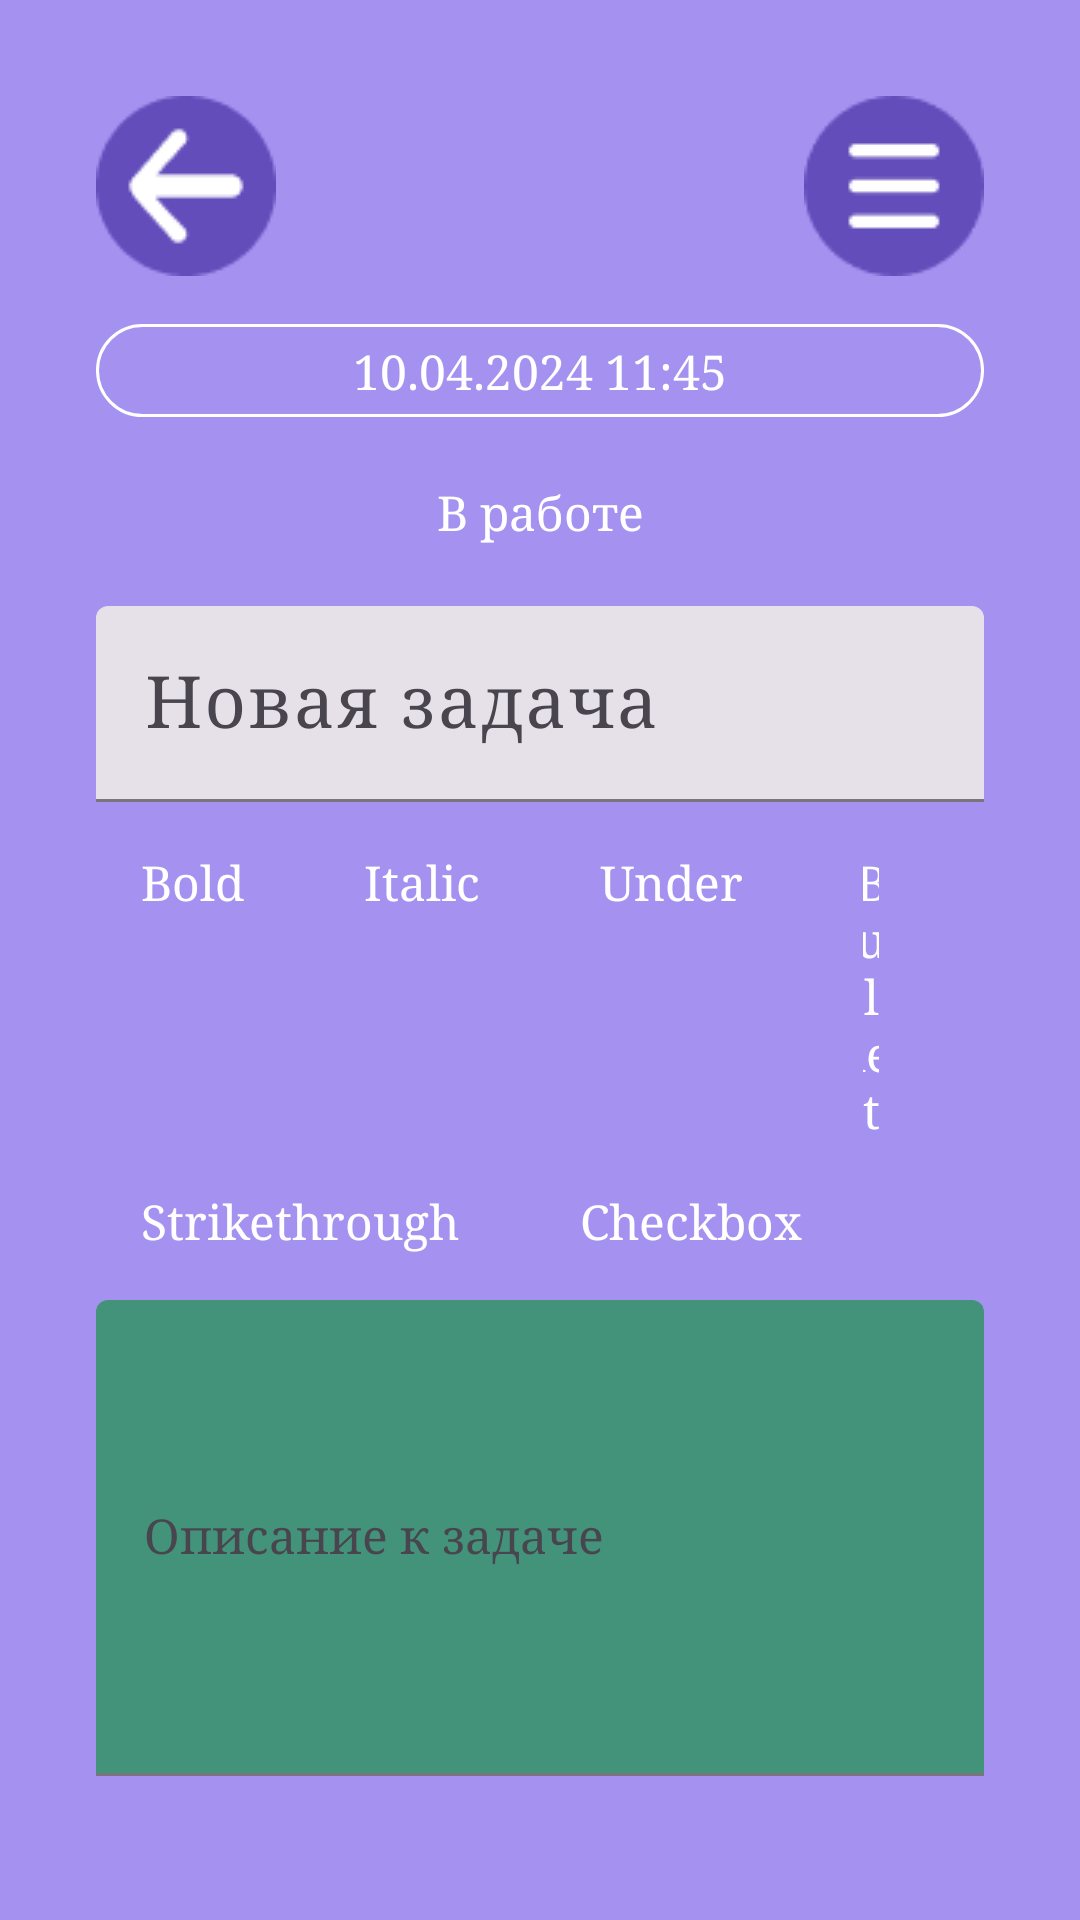

Where icons sit on this 1080w x 1920h app screen, as (x1, y1, x2, y2):
back: (96, 96, 276, 276)
